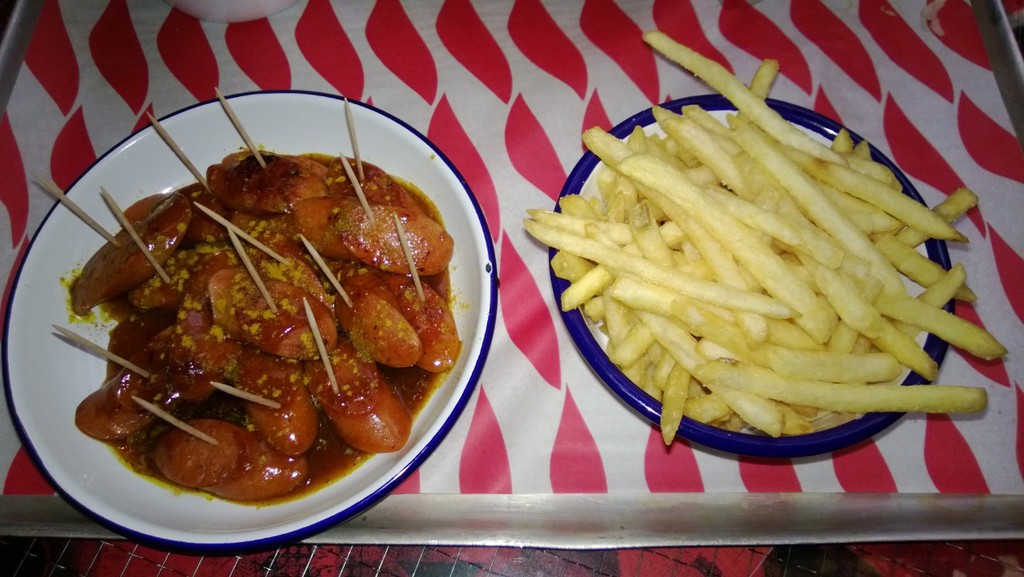French fries: (532, 88, 993, 439)
